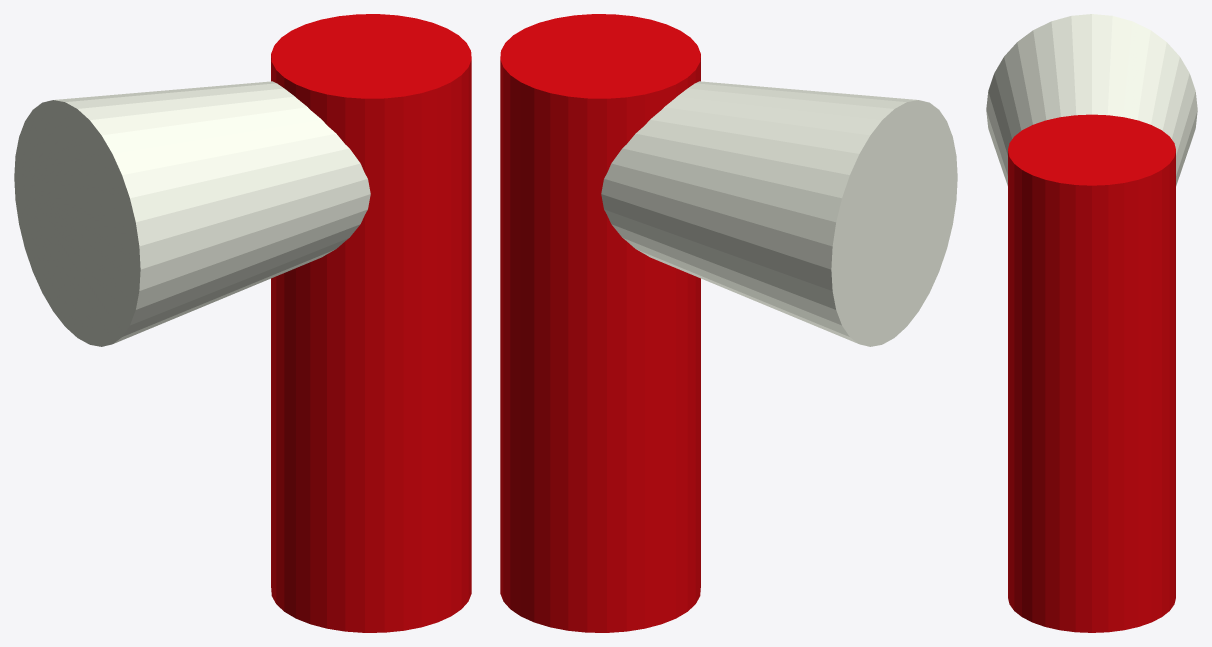
File: Extincteur.fbx
3 renders of one model, left to right at view 1: azimuth 30°, elevation 25°; view 2: azimuth 150°, elevation 25°; view 3: azimuth 270°, elevation 25°, orthographic. The views are drawn at different scales.
Parts seen in each view (by area): view 1: Cylinder; view 2: Cylinder; view 3: Cylinder.
Boxes of the visible parts, x1,y1,x2,y2 form: Cylinder: (14,14,471,632); Cylinder: (500,14,957,632); Cylinder: (986,14,1197,632).
Bounding box in the file's own units: 438 × 608 × 251.
